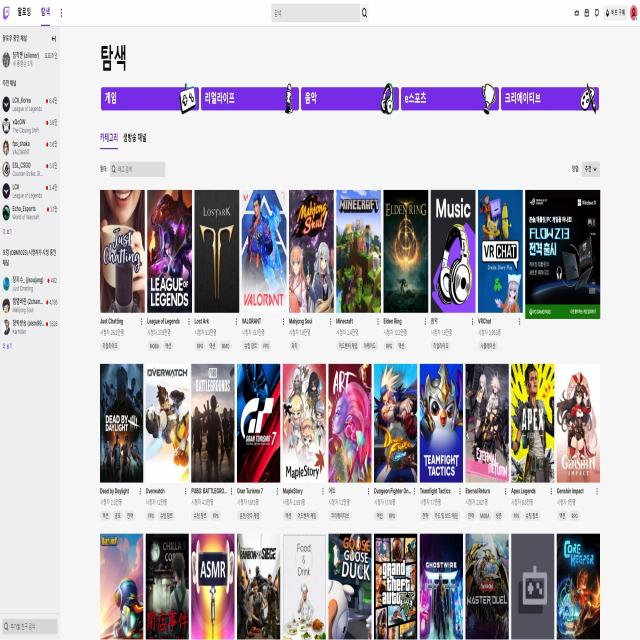menu-bar: (572, 2, 638, 23)
search: (270, 2, 370, 23), (99, 158, 166, 178)
tab-bar: (1, 1, 64, 27), (99, 128, 148, 151)
